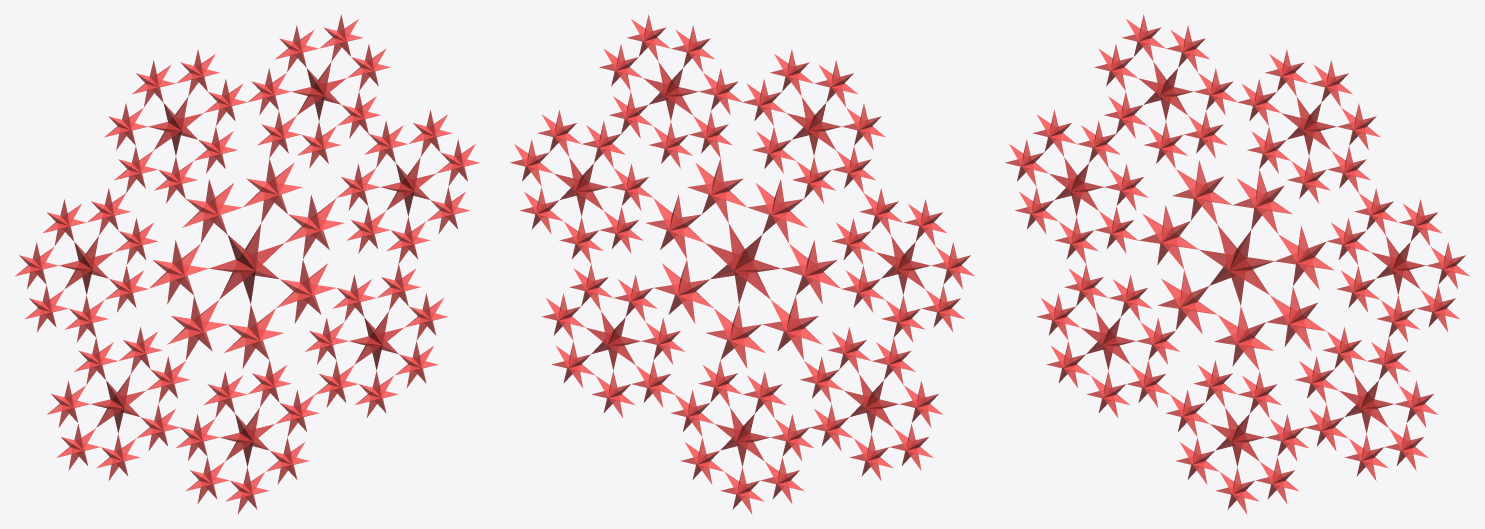
The model's file is fractalheptagrammicdipyramid2.glb.
3 views of the same model, side by side, from view 1: azimuth 30°, elevation 25°; view 2: azimuth 150°, elevation 25°; view 3: azimuth 330°, elevation 25° (orthographic).
Size of the model in its own units: 12.59 by 12.27 by 0.7797.
